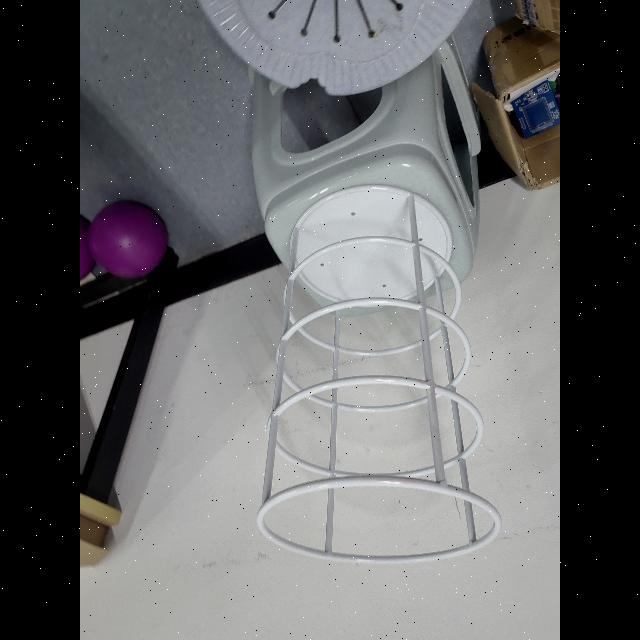S: (254, 181, 504, 565)
